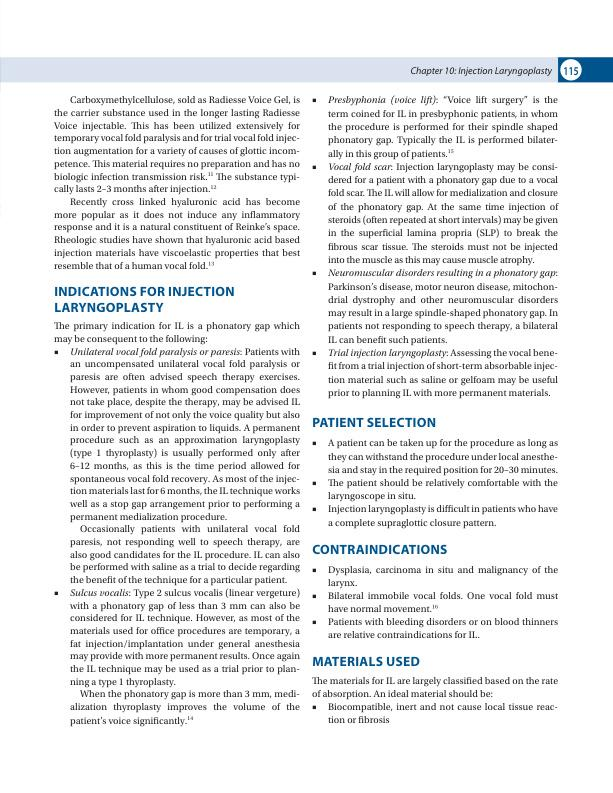header: (410, 66, 553, 77)
list: (309, 93, 559, 401), (309, 437, 559, 530), (310, 565, 559, 639), (310, 702, 558, 724)
section-heading: (54, 285, 236, 314), (311, 543, 448, 555), (312, 416, 437, 428), (311, 655, 420, 667)
text: (54, 320, 301, 728), (53, 94, 301, 271), (311, 675, 559, 700)
